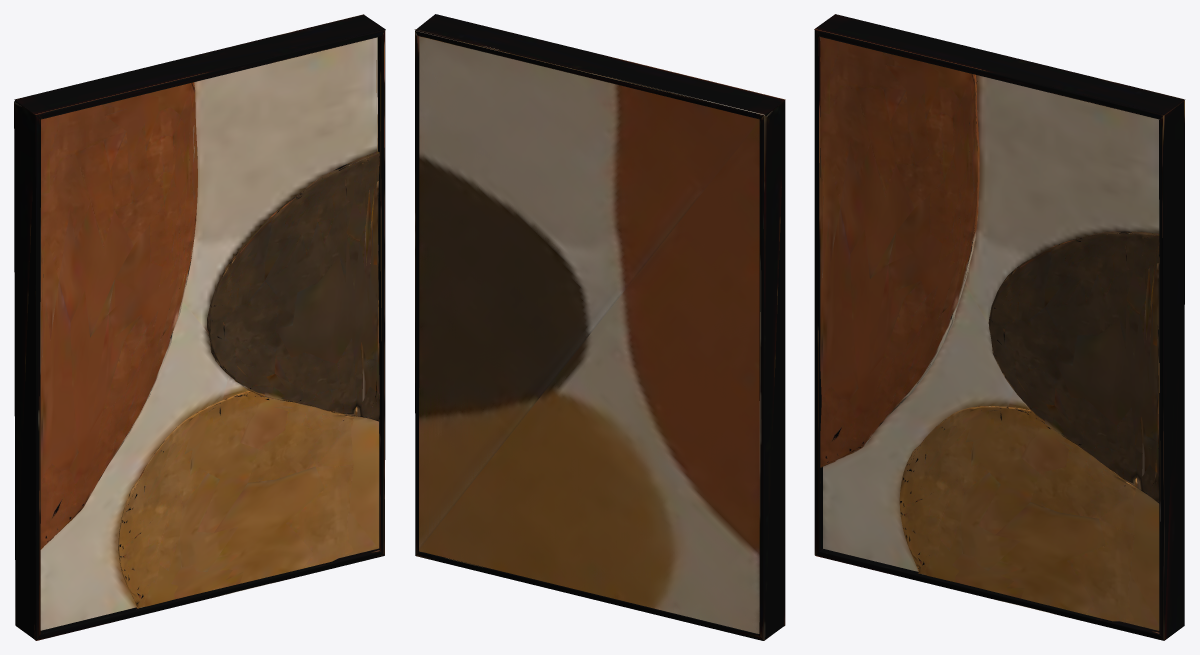
The model's file is mobile.glb.
The picture shows the model from 3 angles, left to right: view 1: azimuth 30°, elevation 25°; view 2: azimuth 150°, elevation 25°; view 3: azimuth 330°, elevation 25°; orthographic projection.
Visible parts, largest first — view 1: wallart; view 2: wallart; view 3: wallart.
Part boxes in pixels (box(x1,y1,x2,y2)): wallart: box(14, 14, 385, 640); wallart: box(414, 14, 785, 640); wallart: box(814, 14, 1185, 640).
Size of the model in its own units: 0.8001 by 1.14 by 0.0859.
1 material, 1 textured.
